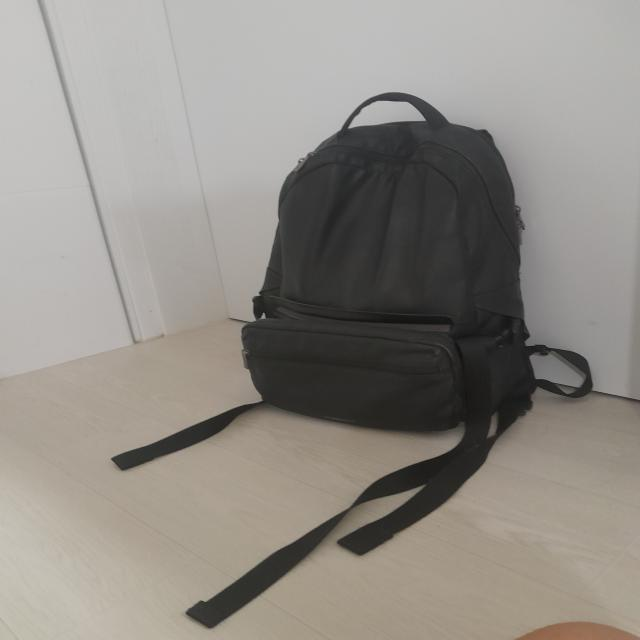backpack: (109, 91, 593, 628)
